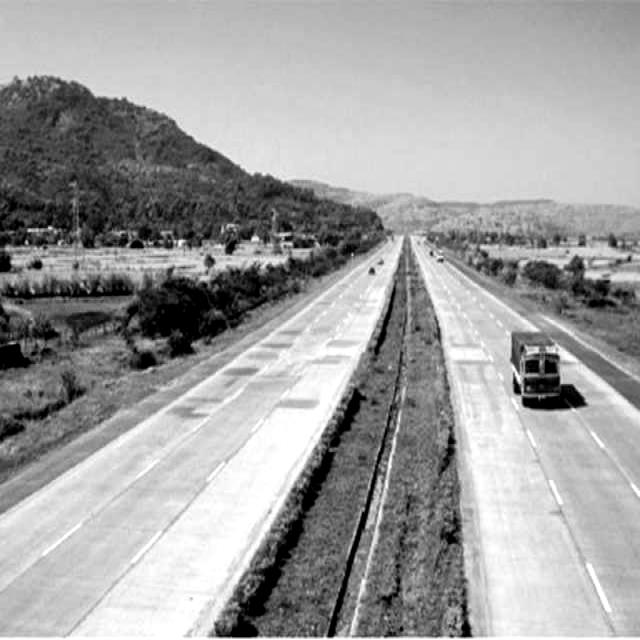cleat: (141, 114, 640, 640)
